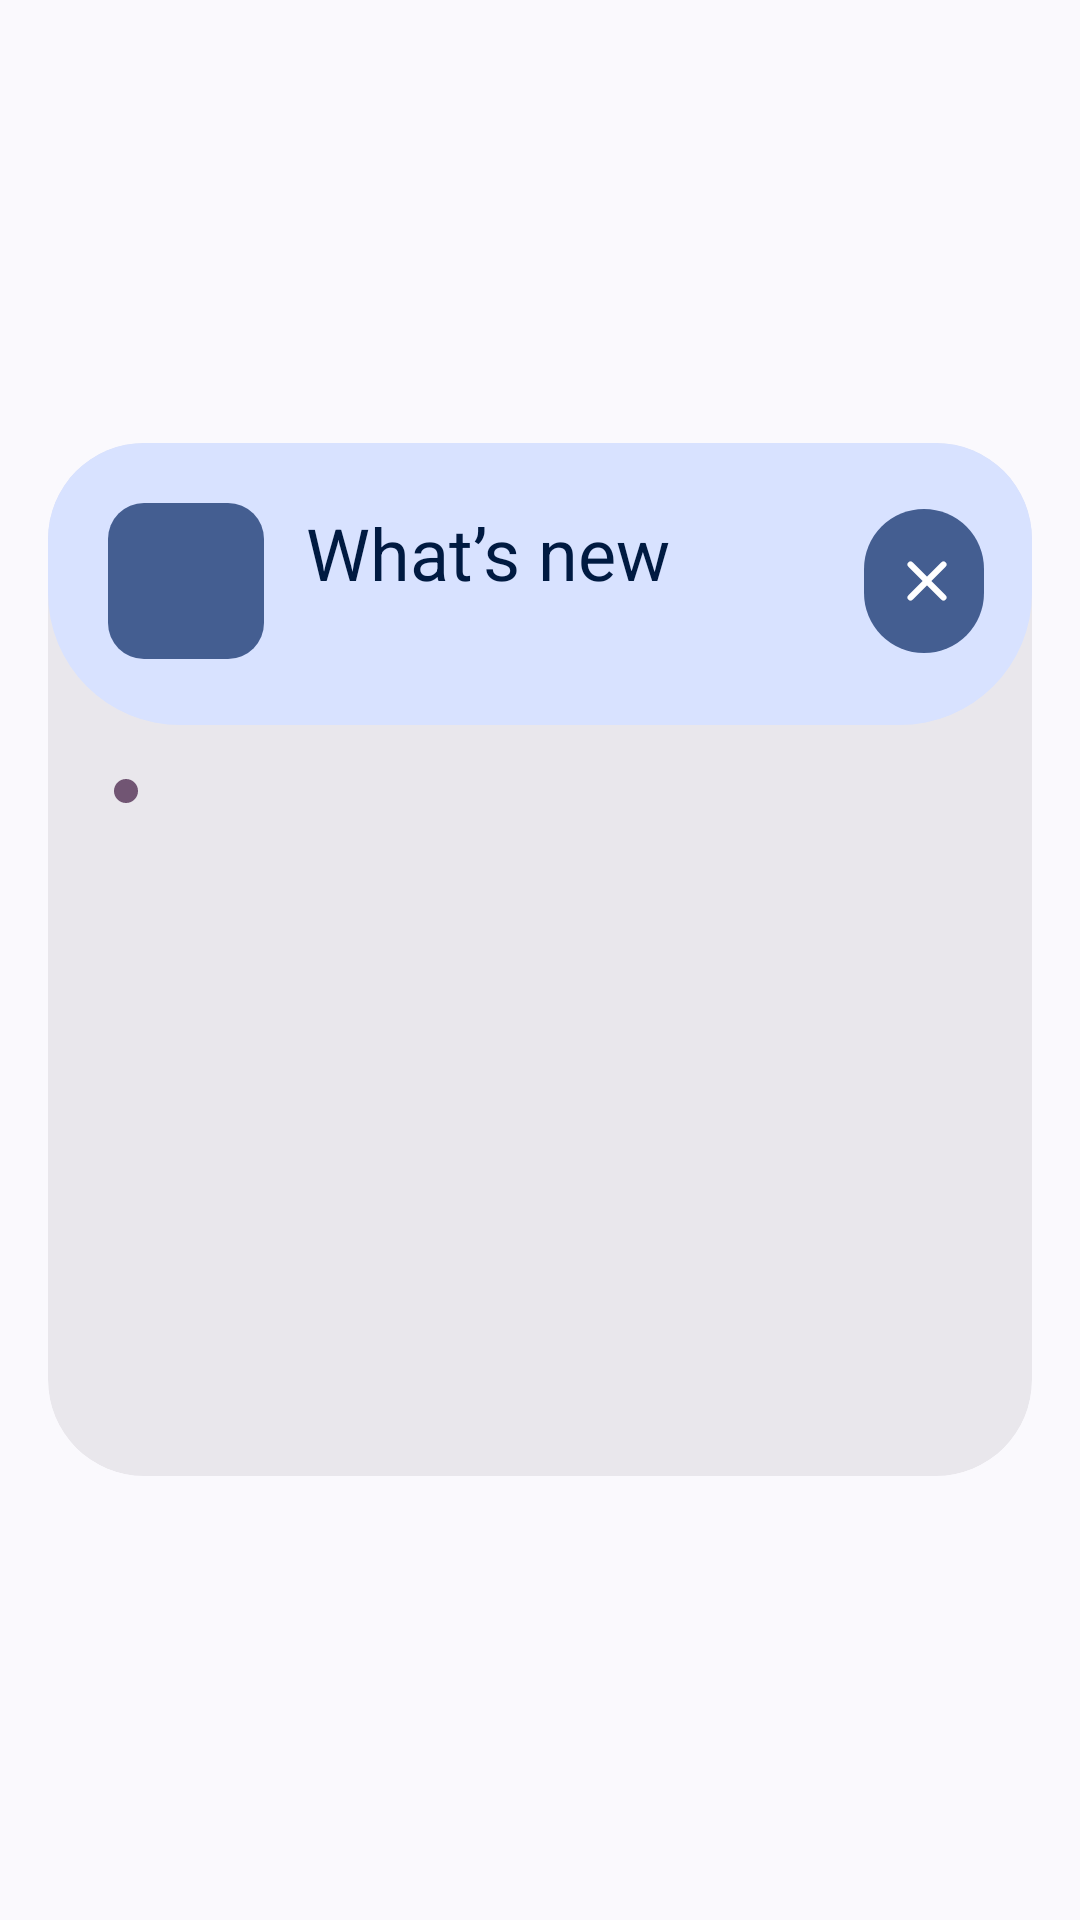

Point at icon controls on the screen. Image size 1080w x 1920h, points as point (x, y).
Close: point (924, 581)
